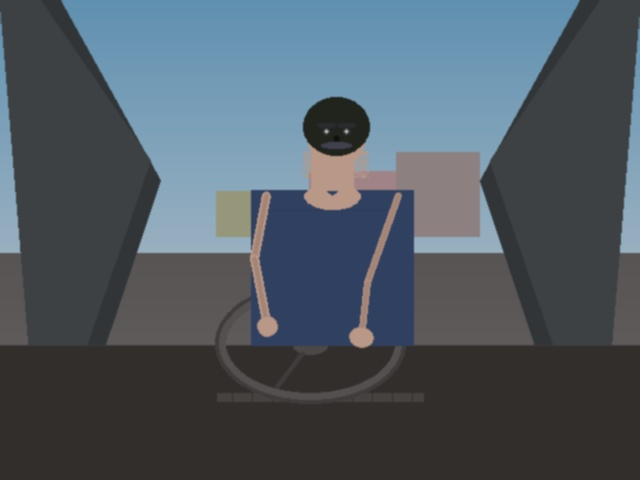normal_driving: (90, 203, 310, 343)
